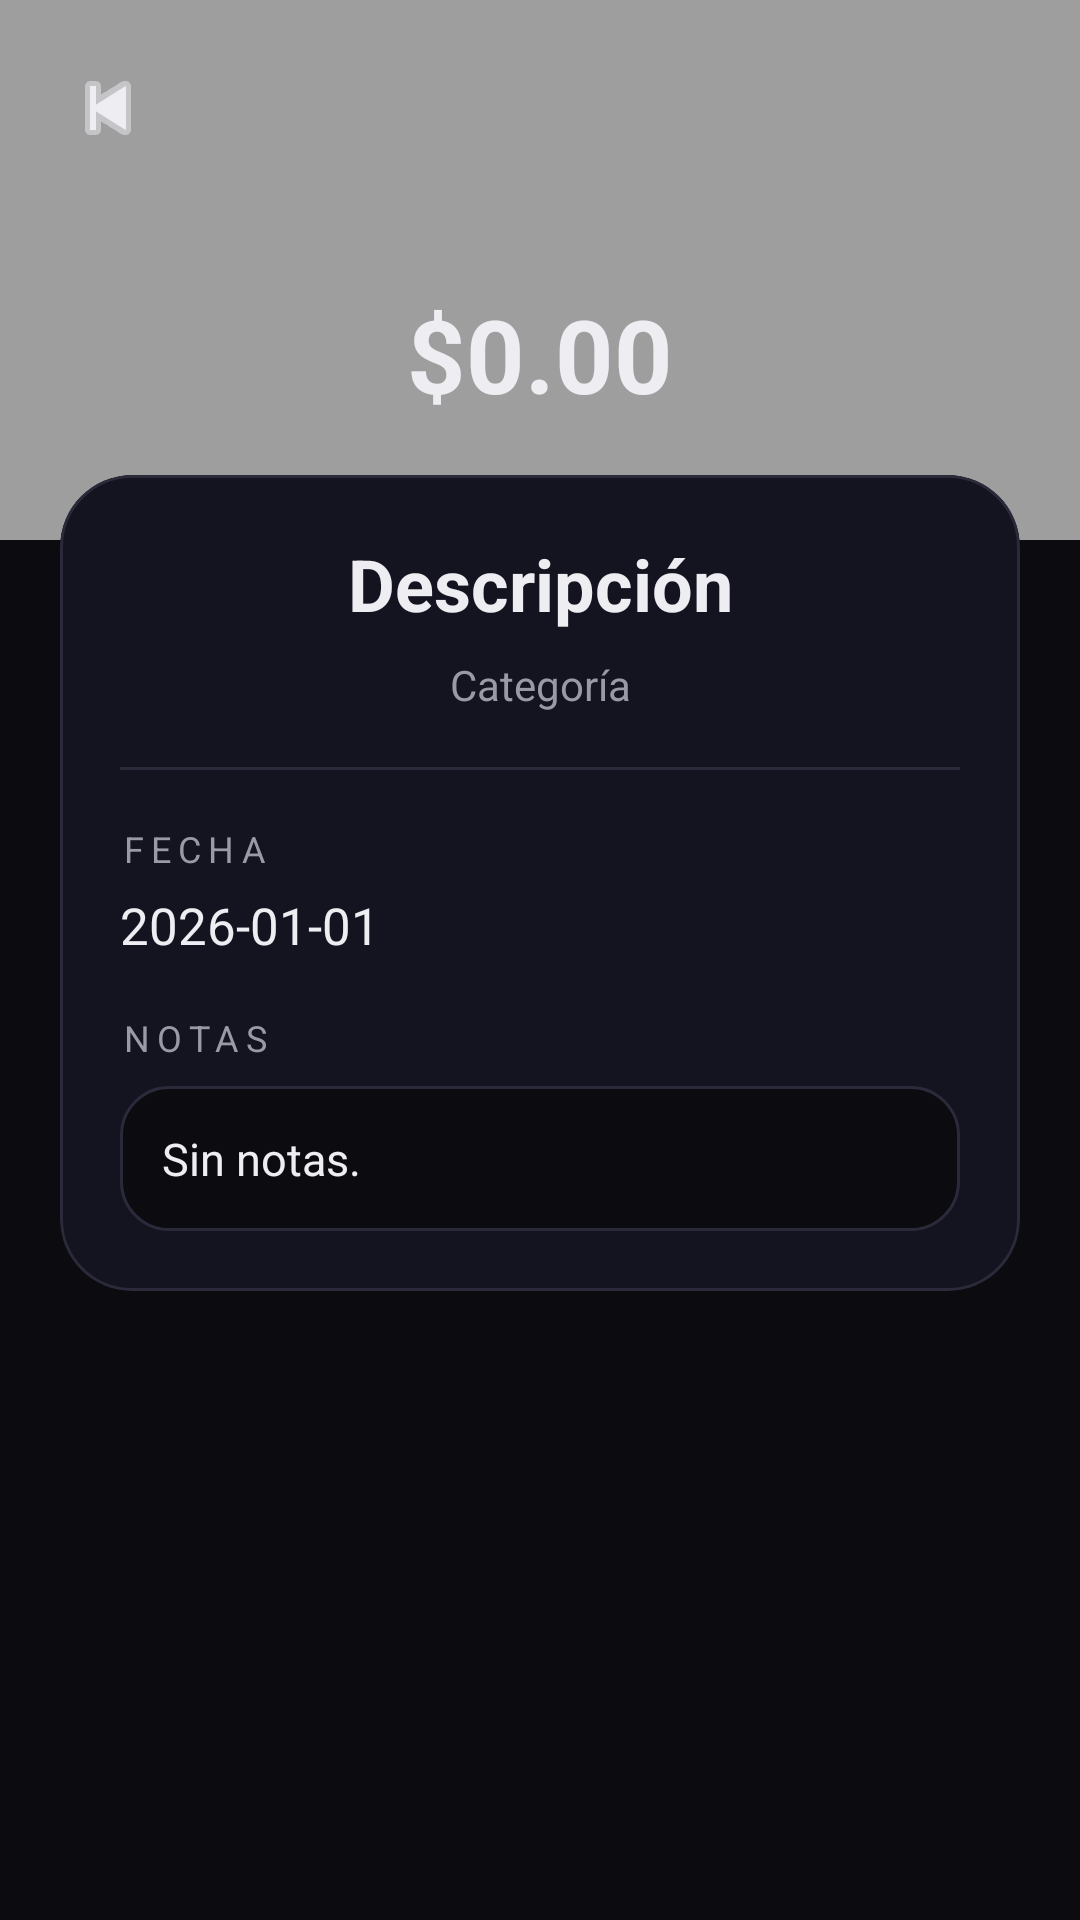

Icon click points for this 1080×1920 phone screenshot, format [x,y]:
Volver: [108,108]
